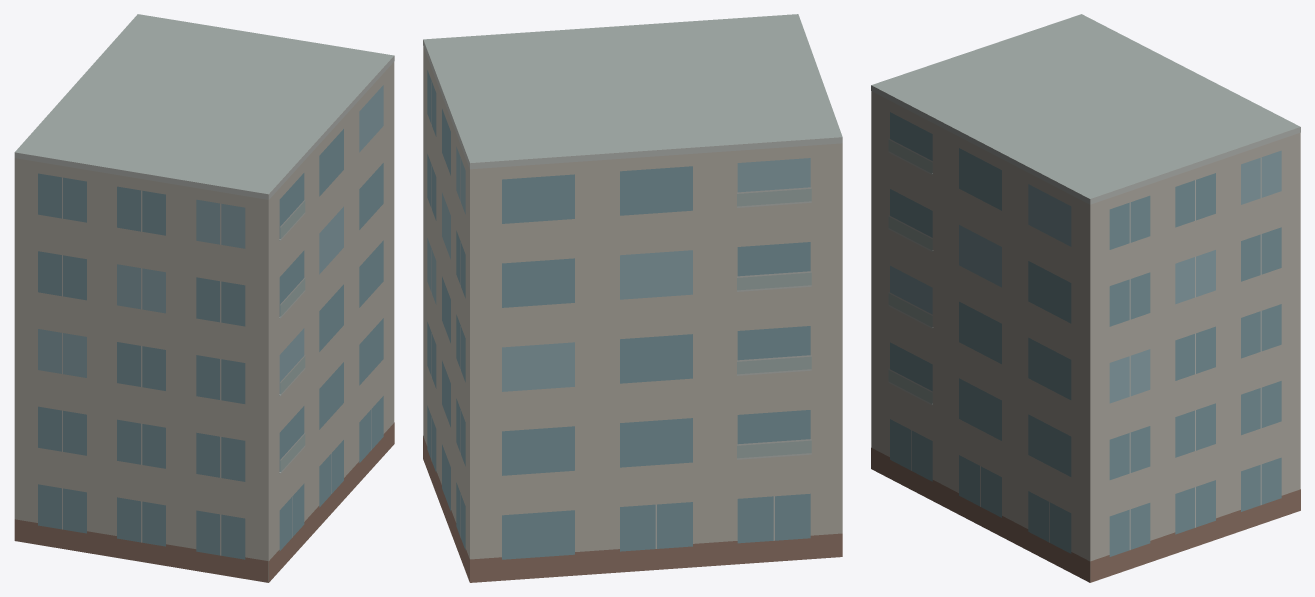
Rendered from survey-upis-32816446.glb.
The picture shows the model from 3 angles, left to right: view 1: azimuth 30°, elevation 25°; view 2: azimuth 150°, elevation 25°; view 3: azimuth 270°, elevation 25°; orthographic projection. The views are drawn at different scales.
Parts seen in each view (by area): view 1: survey-upis-32816446.tmp; view 2: survey-upis-32816446.tmp; view 3: survey-upis-32816446.tmp.
Part boxes in pixels (x1,y1,x2,y2): survey-upis-32816446.tmp: [14, 14, 394, 582]; survey-upis-32816446.tmp: [423, 14, 842, 582]; survey-upis-32816446.tmp: [871, 14, 1300, 582].
Bounding box in the file's own units: 17.13 × 16.55 × 16.8.
